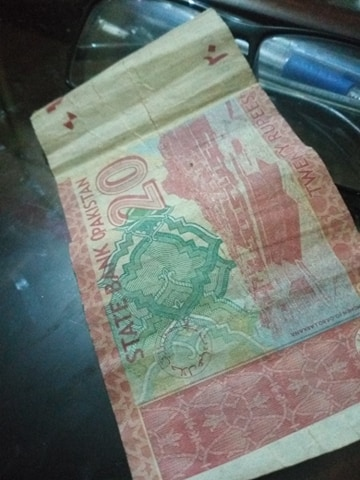20 rupee: (7, 18, 351, 479)
